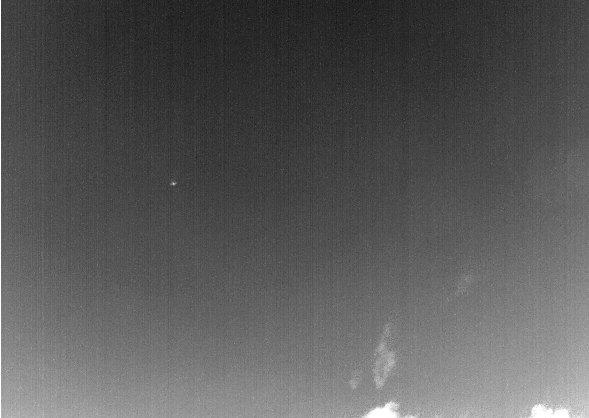dim target: (169, 181, 177, 186)
